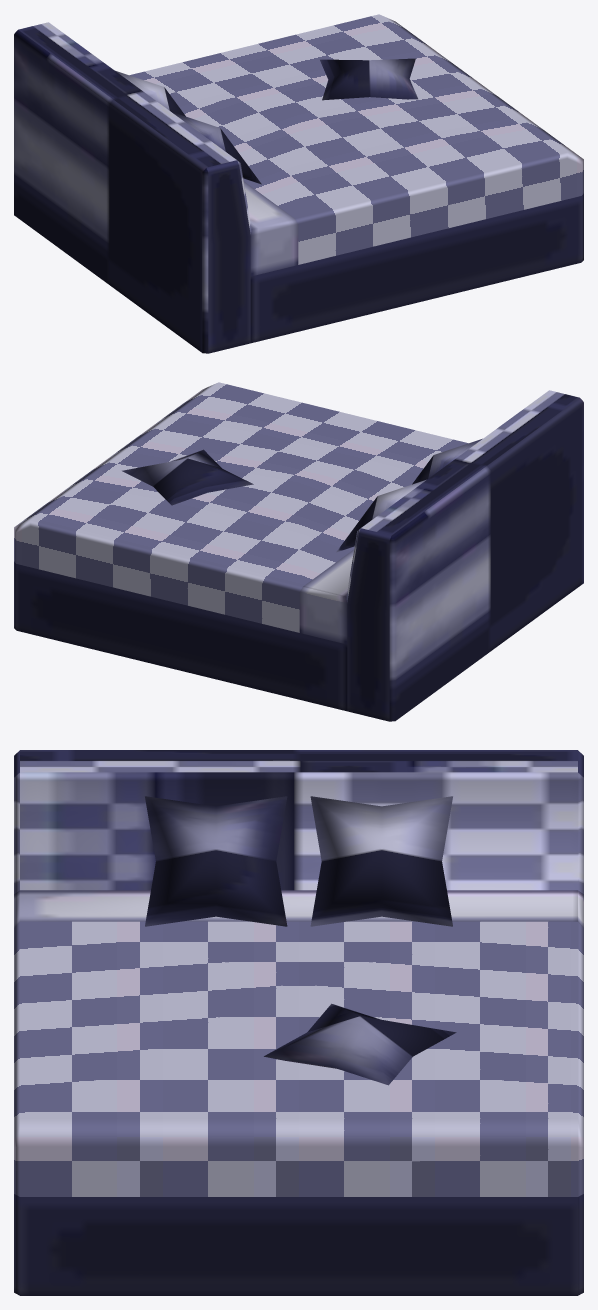
Rendered from rmk_mnc_bedW.dae.
The picture shows the model from 3 angles, top to bottom: view 1: azimuth 30°, elevation 25°; view 2: azimuth 150°, elevation 25°; view 3: azimuth 270°, elevation 25°; orthographic projection. The views are drawn at different scales.
Visible parts, largest first — view 1: rmk_mnc_bedW; view 2: rmk_mnc_bedW; view 3: rmk_mnc_bedW.
Part boxes in pixels (x1,y1,x2,y2): rmk_mnc_bedW: [14, 14, 583, 353]; rmk_mnc_bedW: [14, 382, 583, 721]; rmk_mnc_bedW: [14, 750, 583, 1295].
Bounding box in the file's own units: 57.12 × 26.4 × 49.94.
2 materials, 2 textured.
